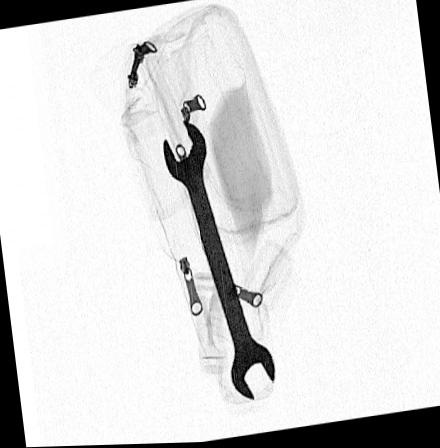Wrench: (161, 122, 274, 403)
